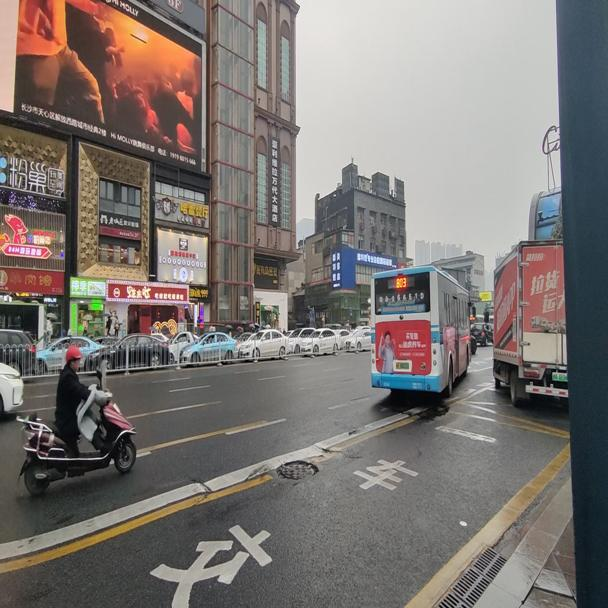bus: (369, 263, 476, 398)
screen: (396, 276, 406, 288)
